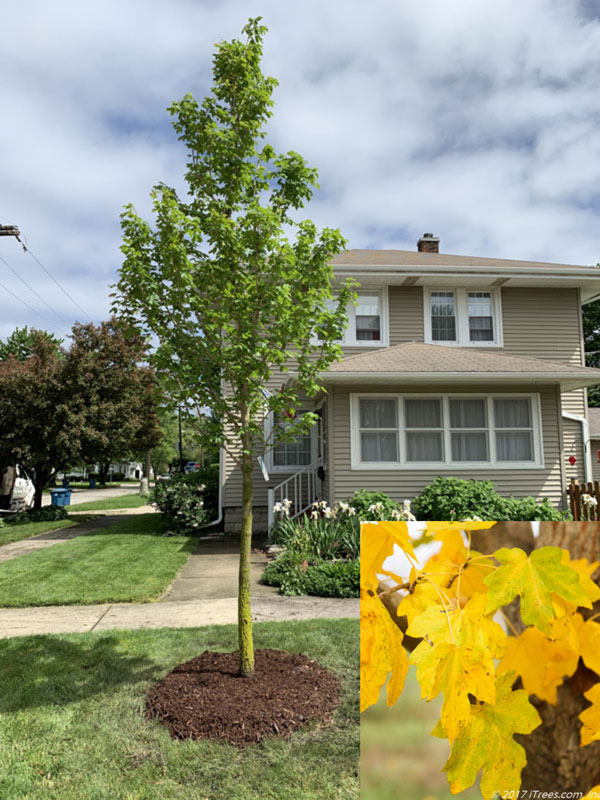tree: (108, 14, 361, 679)
